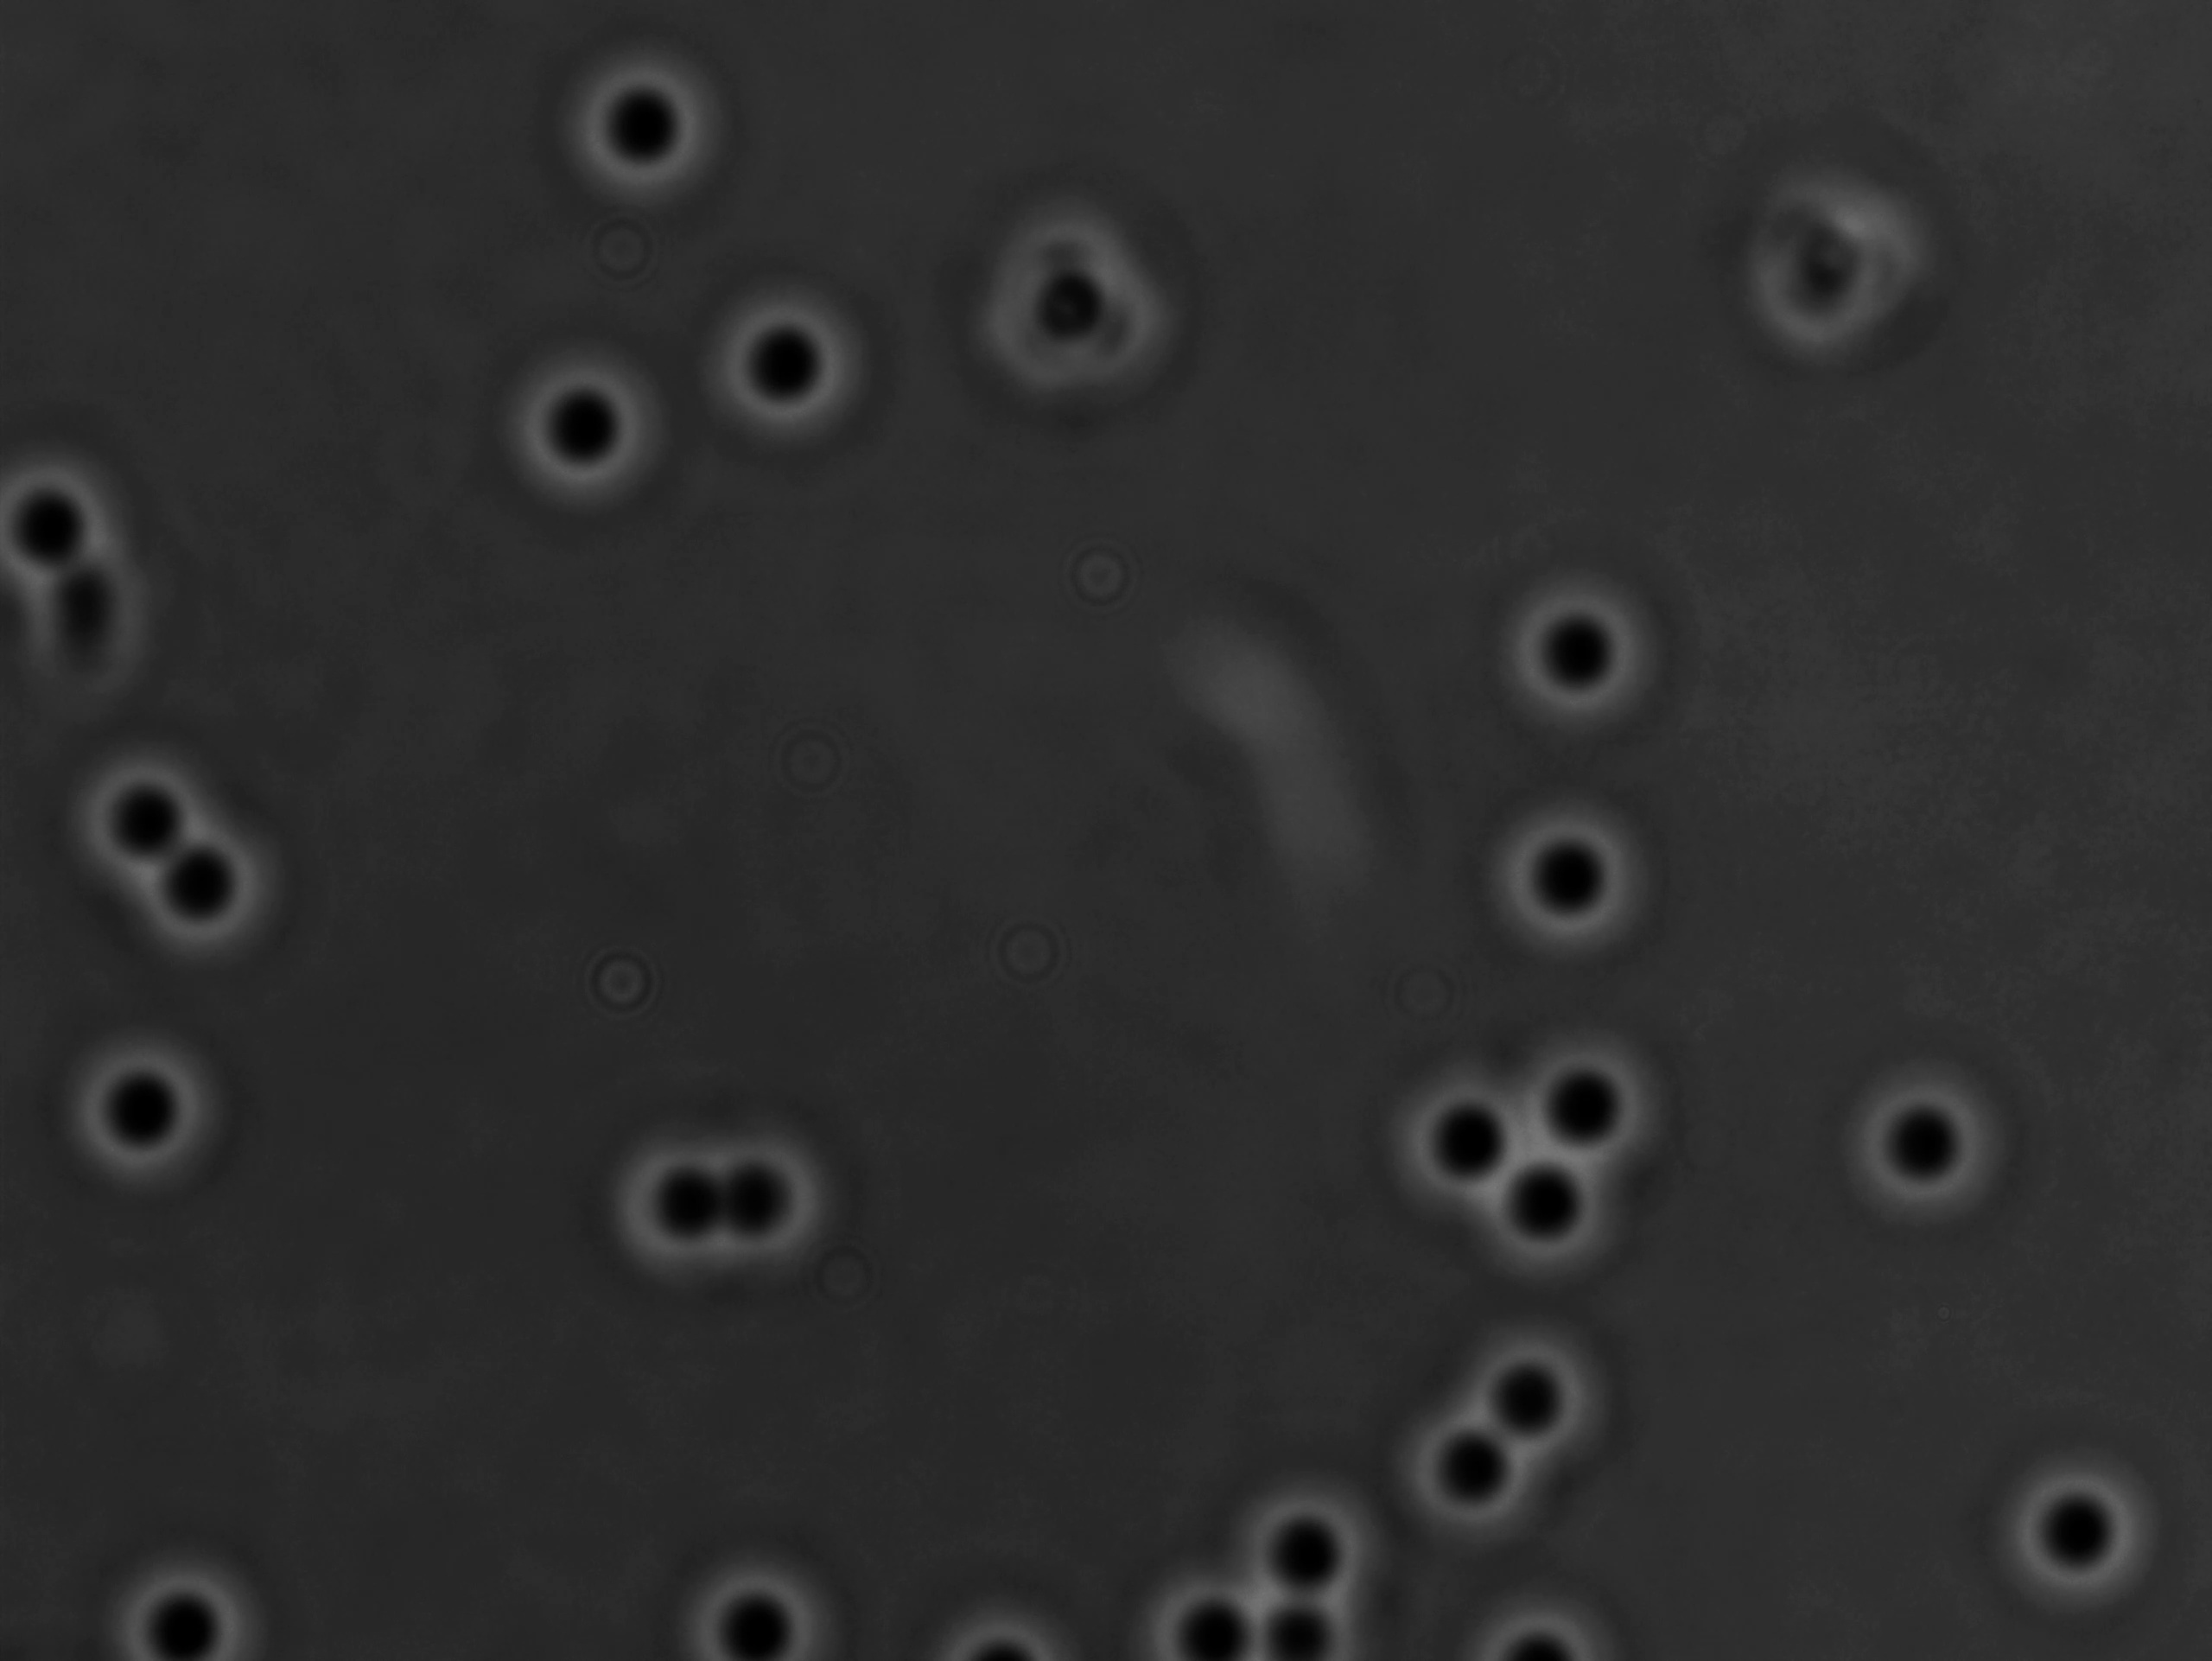depth:-80: (1825, 1047, 2045, 1246), (1490, 557, 1690, 750), (487, 342, 689, 530), (1434, 1108, 1640, 1293), (1505, 1003, 1701, 1195), (1432, 1295, 1636, 1476), (1485, 780, 1685, 963), (58, 1015, 260, 1195), (1375, 1038, 1560, 1232), (1375, 1394, 1570, 1574), (551, 37, 740, 222), (707, 270, 891, 459), (1990, 1436, 2170, 1621), (94, 1537, 274, 1661), (668, 1553, 857, 1661)
